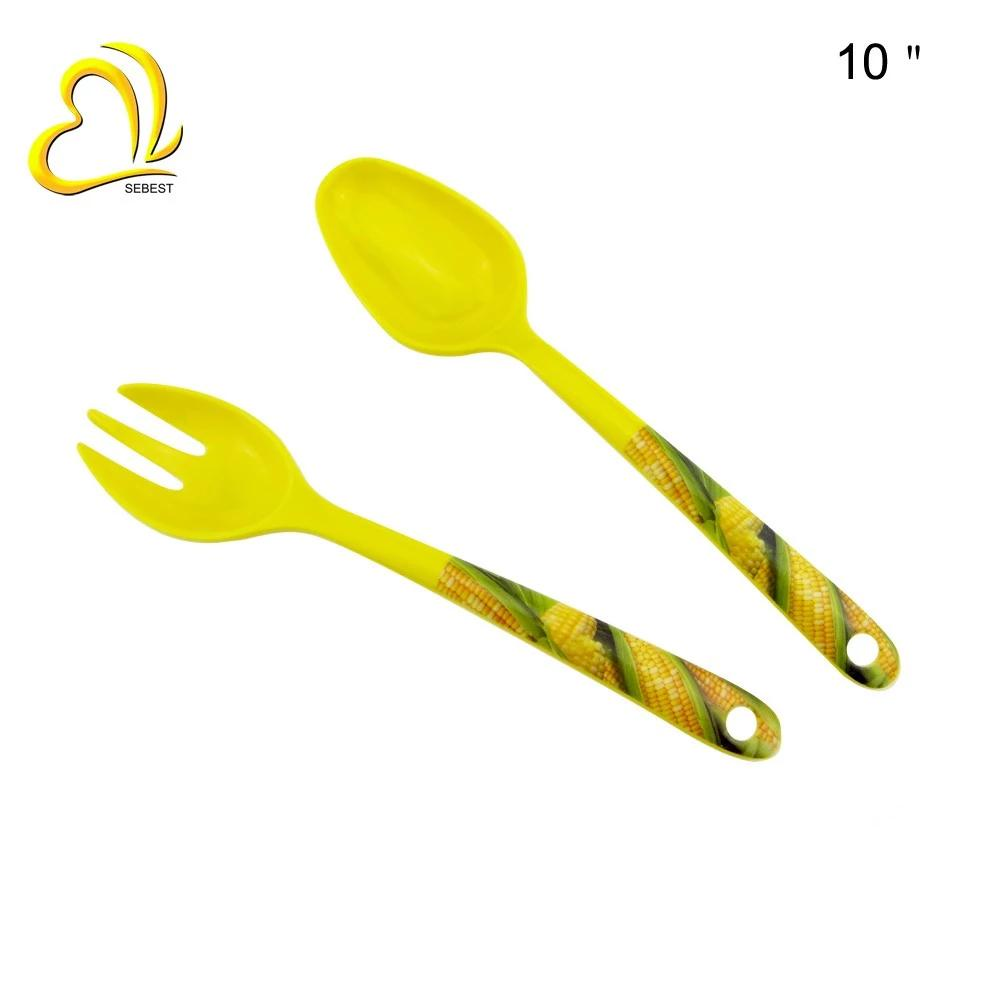Fork: (76, 381, 783, 762)
Spoon: (315, 156, 900, 691)
